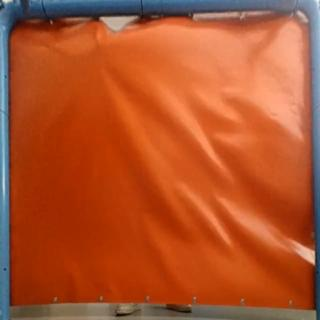Hit-hRxx: (91, 39, 109, 51)
